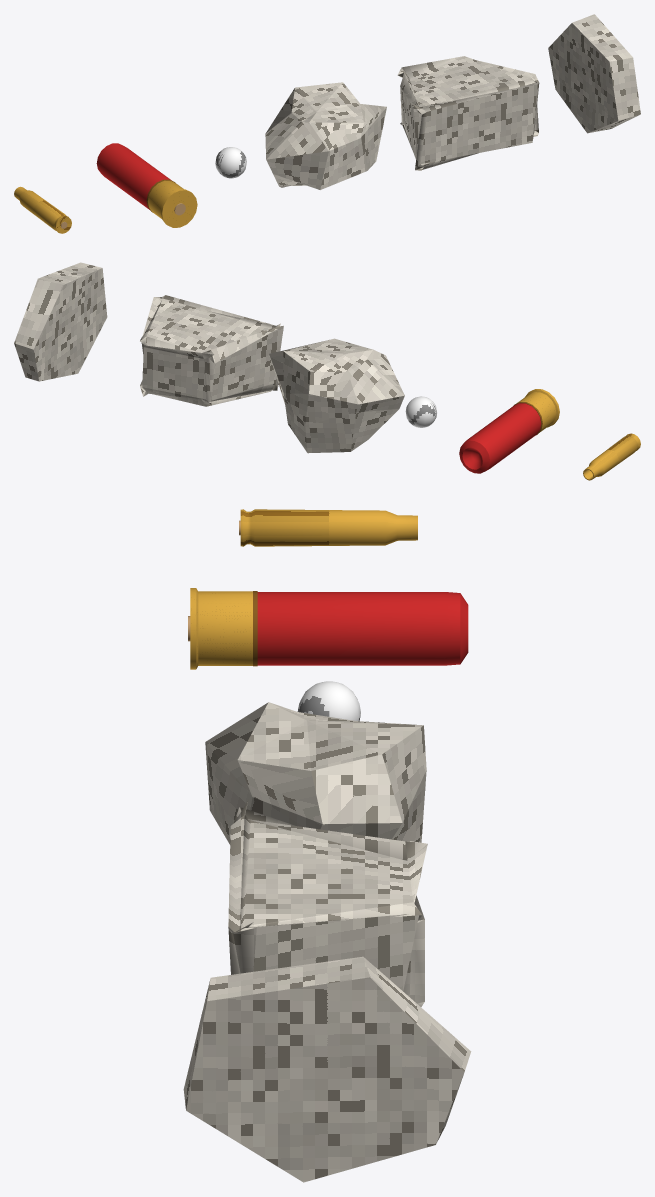
Rendered from x_fx_bits.glb.
The picture shows the model from 3 angles, top to bottom: view 1: azimuth 30°, elevation 25°; view 2: azimuth 150°, elevation 25°; view 3: azimuth 270°, elevation 25°; orthographic projection. The views are drawn at different scales.
Parts seen in each view (by area): view 1: bit_chunk_b, bit_chunk_a, bit_chunk_c, bit_shell, bit_casing, bit_marble; view 2: bit_chunk_b, bit_chunk_a, bit_chunk_c, bit_shell, bit_casing, bit_marble; view 3: bit_chunk_c, bit_chunk_b, bit_chunk_a, bit_shell, bit_casing, bit_marble.
Part boxes in pixels (box(x1,y1,x2,y2)): bit_chunk_b: box(397, 56, 539, 170); bit_chunk_a: box(265, 82, 386, 189); bit_chunk_c: box(548, 14, 640, 133); bit_shell: box(96, 143, 197, 227); bit_casing: box(14, 186, 71, 233); bit_marble: box(215, 147, 246, 178); bit_chunk_b: box(140, 295, 283, 406); bit_chunk_a: box(269, 338, 404, 453); bit_chunk_c: box(14, 262, 107, 381); bit_shell: box(459, 389, 559, 473); bit_casing: box(583, 433, 640, 480); bit_marble: box(405, 396, 436, 427); bit_chunk_c: box(183, 956, 471, 1182); bit_chunk_b: box(228, 800, 427, 1006); bit_chunk_a: box(205, 702, 426, 844); bit_shell: box(188, 588, 468, 669); bit_casing: box(239, 509, 417, 546); bit_marble: box(297, 681, 360, 721).
Size of the model in its own units: 0.332 by 0.057 by 0.0724.
Materials: 6 (4 with a texture image).
